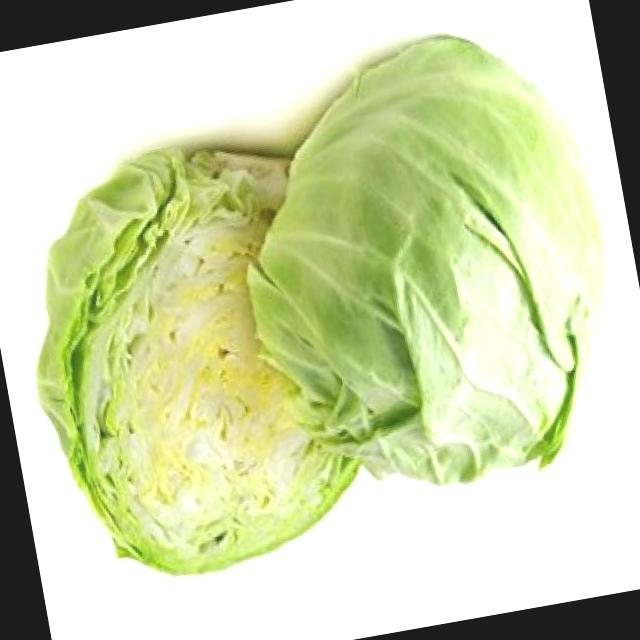cabbage: (208, 0, 637, 518), (1, 124, 394, 606)
